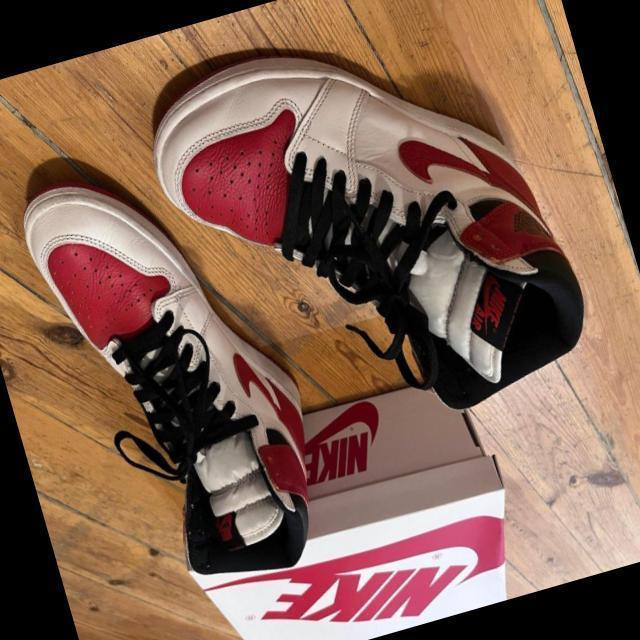nike original jordan 1: (127, 0, 607, 471), (8, 129, 341, 613)
